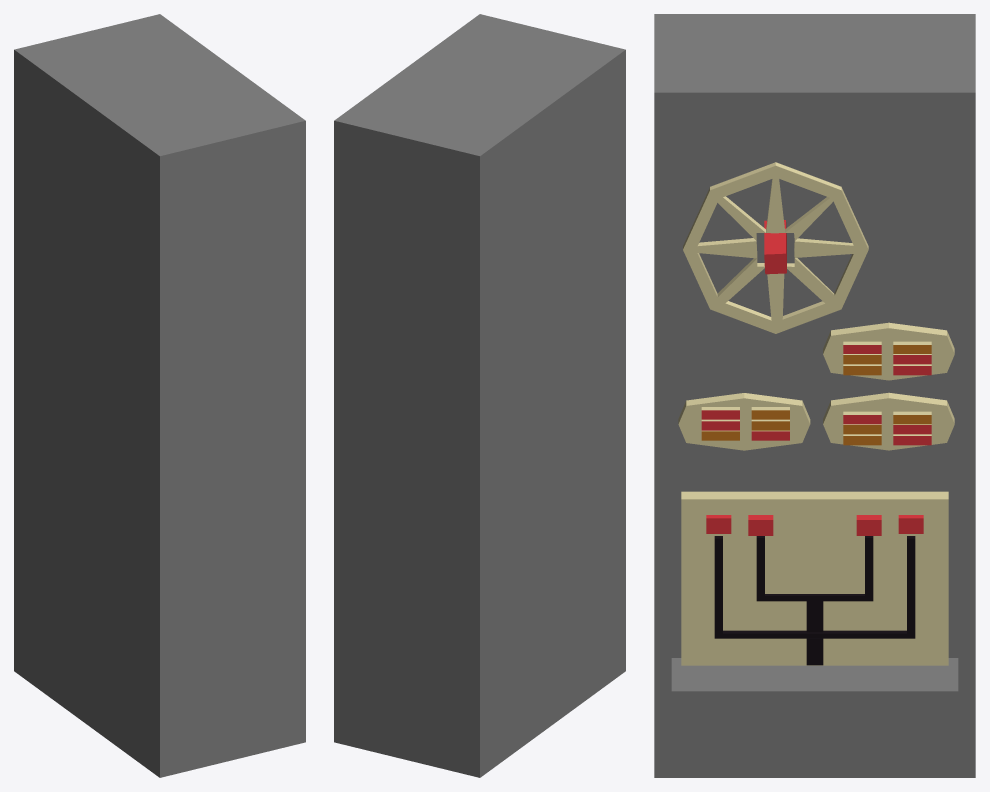
Rendered from computer.fbx.
The picture shows the model from 3 angles, left to right: view 1: azimuth 30°, elevation 25°; view 2: azimuth 150°, elevation 25°; view 3: azimuth 270°, elevation 25°; orthographic projection. The views are drawn at different scales.
Visible parts, largest first — view 1: Cube; view 2: Cube; view 3: Cube, Cylinder, Cube.004.
Boxes of the visible parts, x1,y1,x2,y2 form: Cube: (14,14,305,777); Cube: (334,14,625,777); Cube: (654,14,975,777); Cylinder: (683,162,868,333); Cube.004: (764,220,786,274).
Bounding box in the file's own units: 2.01 × 8.14 × 3.46.
